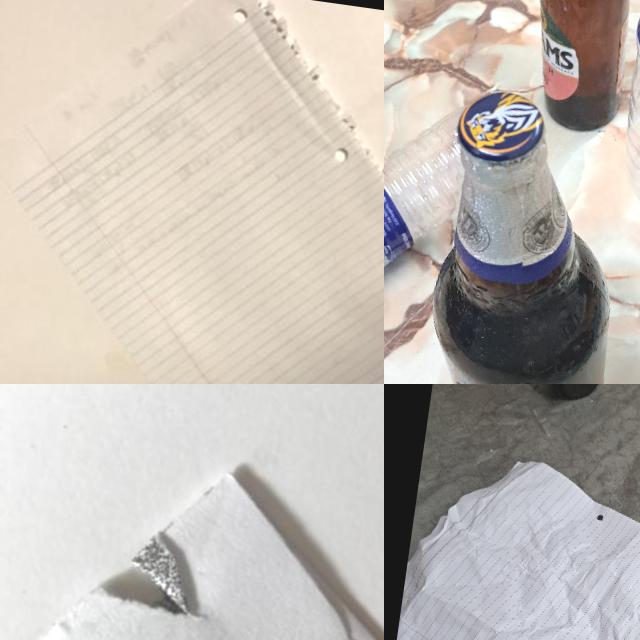garrafa de vidro: (413, 84, 640, 384), (518, 0, 640, 136)
garrafa plástica: (384, 92, 470, 326)
papel: (0, 0, 384, 384), (0, 436, 384, 640), (384, 448, 640, 640)
